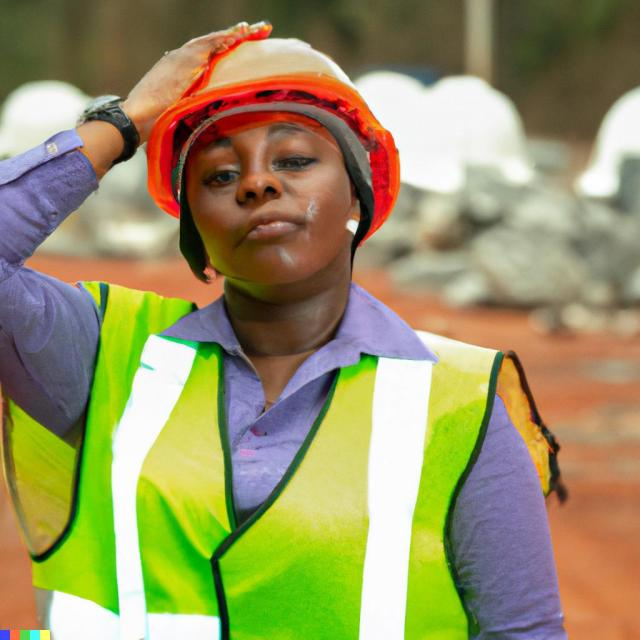Reflective-Jacket: (11, 286, 531, 636)
Safety-Helmet: (140, 24, 409, 215)
